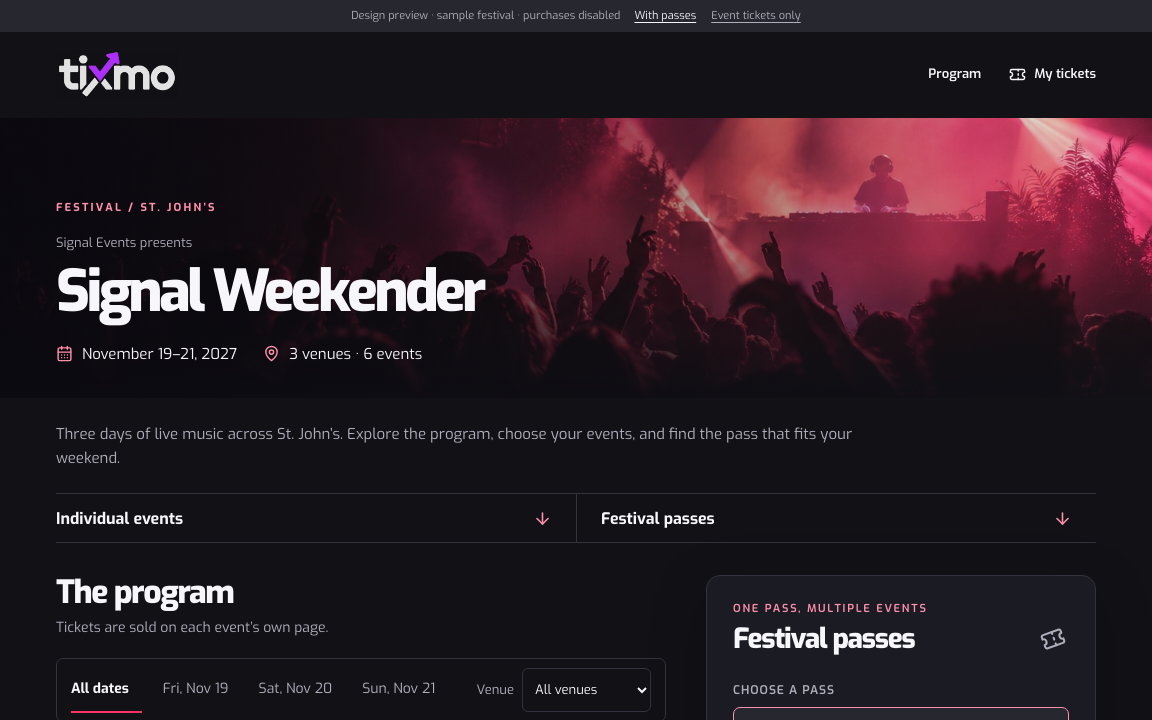
Test case: festival customer journey › filters by date and venue, with a reset for empty combinations
This screenshot has width=1152, height=720.
Click the button "Sat, Nov 20" at (295, 690), box [246,667,345,713]
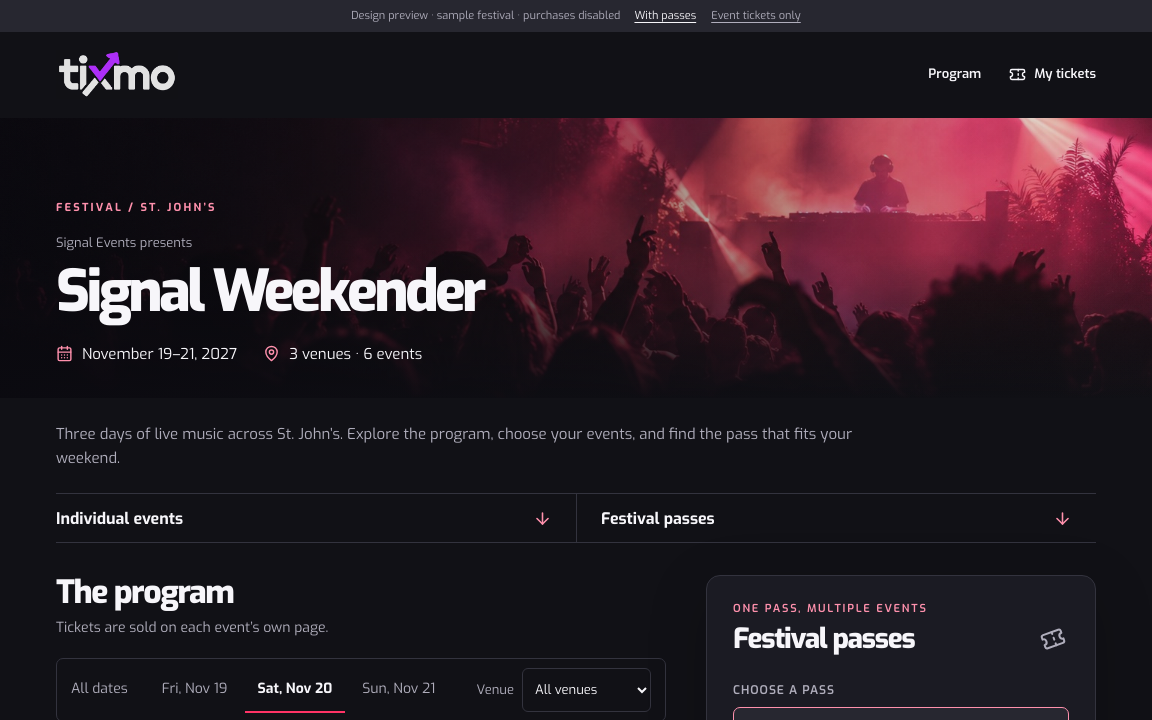
Select "Signal Hall" in the dropdown named "Filter events by venue" at (586, 690), box [522,668,651,712]
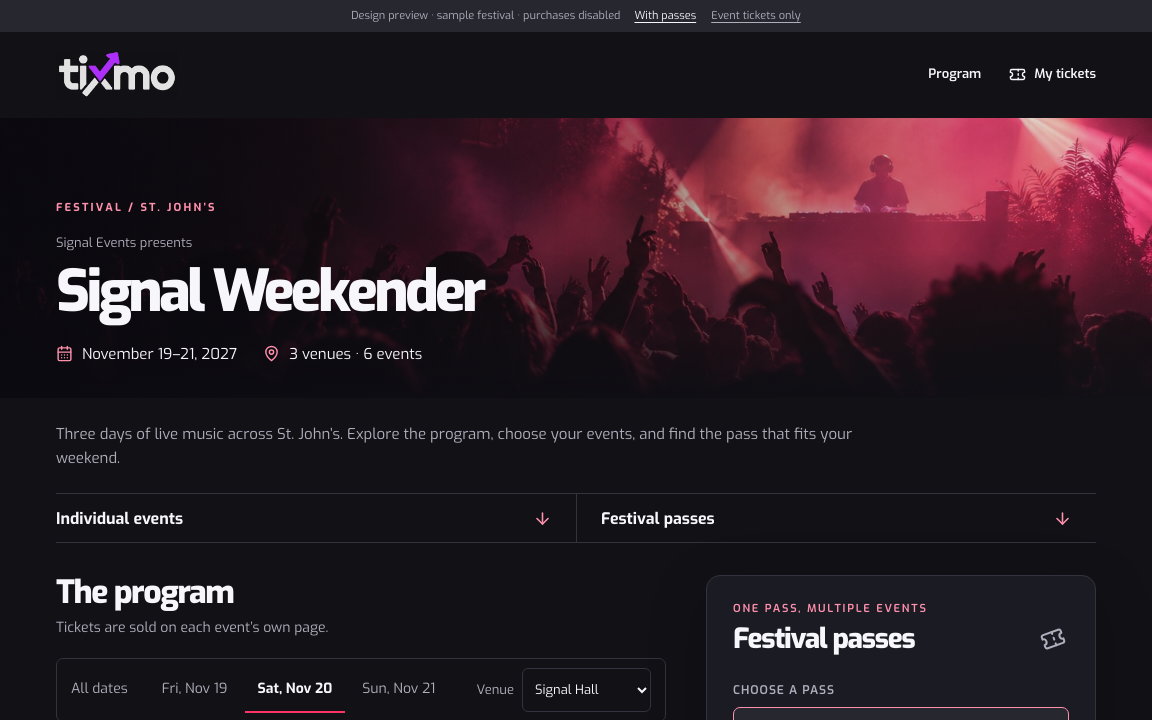
Click the button "Fri, Nov 19" at (195, 690), box [149,667,240,713]
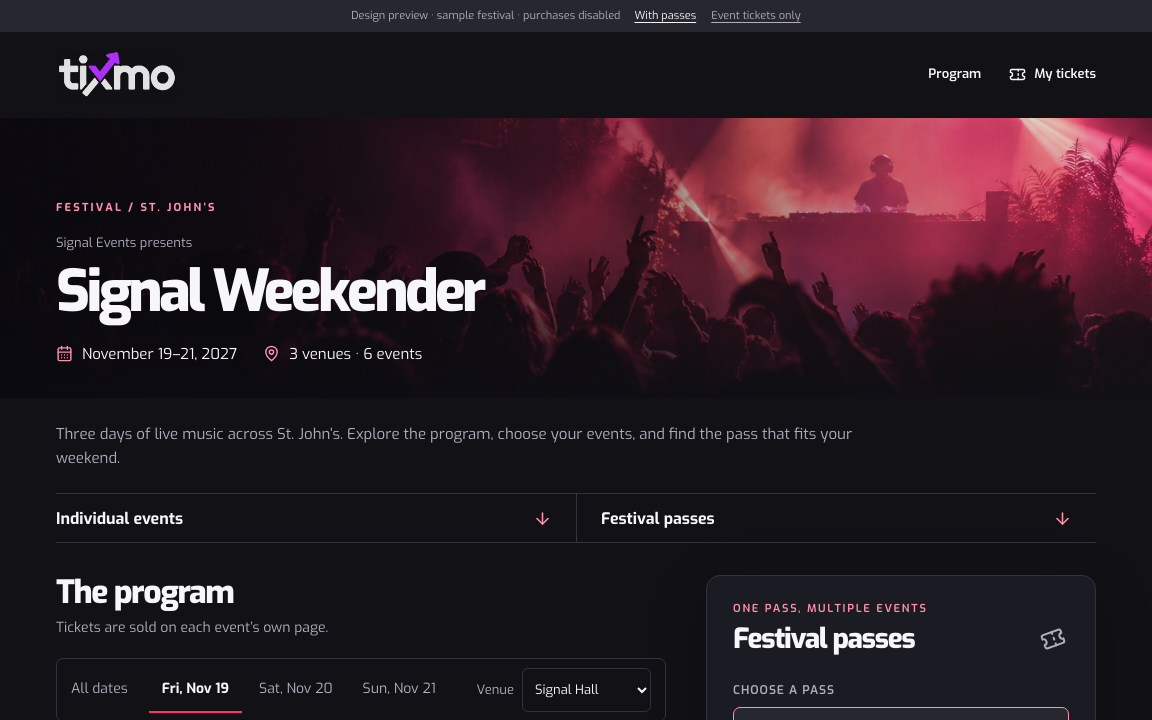
Select "The Rooftop" in the dropdown named "Filter events by venue" at (586, 690), box [522,668,651,712]
(page scrolled)
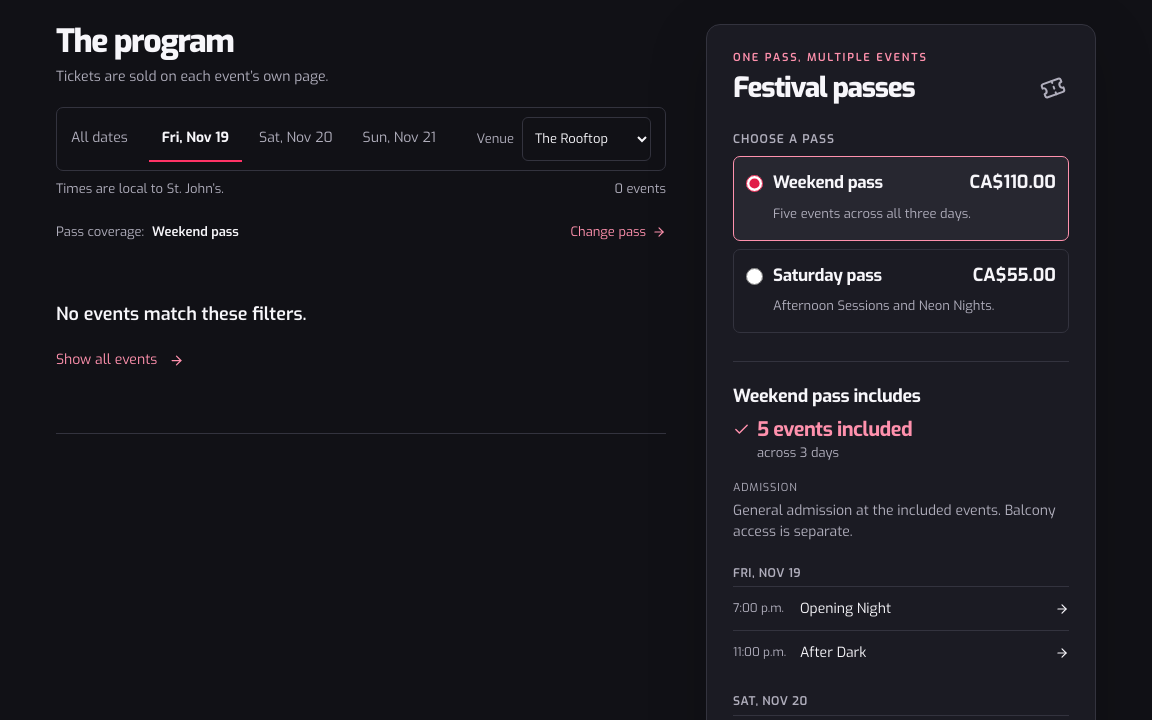
Check: the heading "No events match these filters." is shown, box [56,302,306,326]
Click the button "Show all events" at (120, 361), box [56,339,184,383]
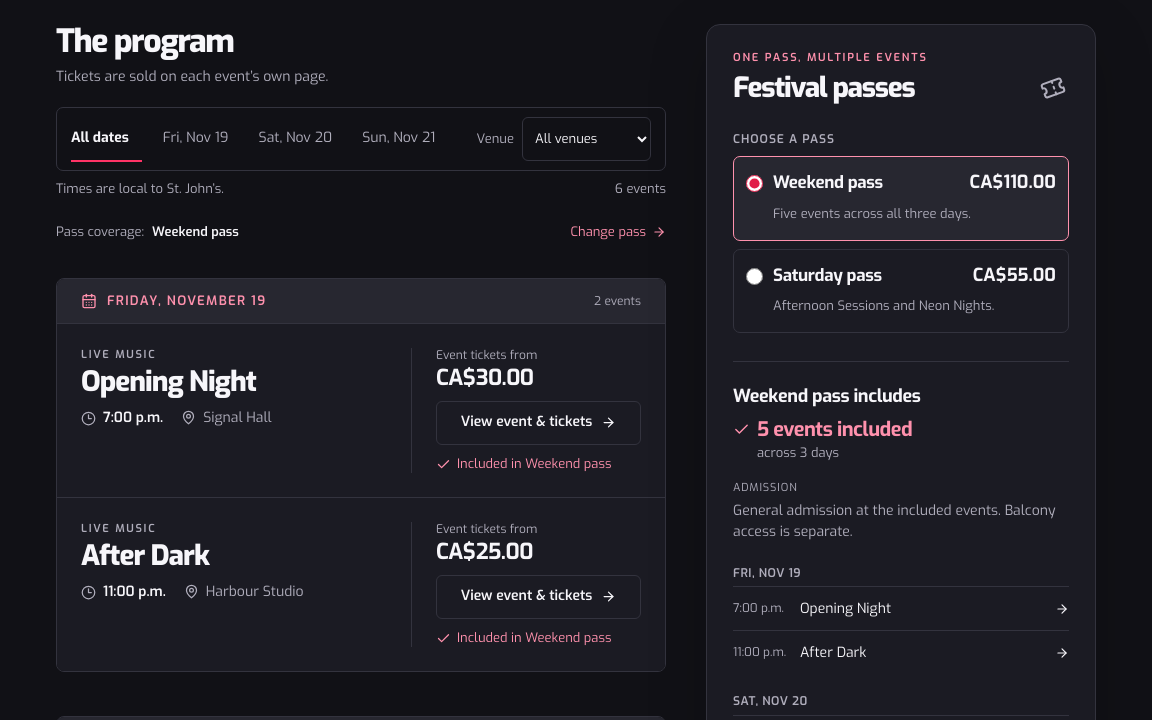
Check: the number of links "View event & tickets" is 6
